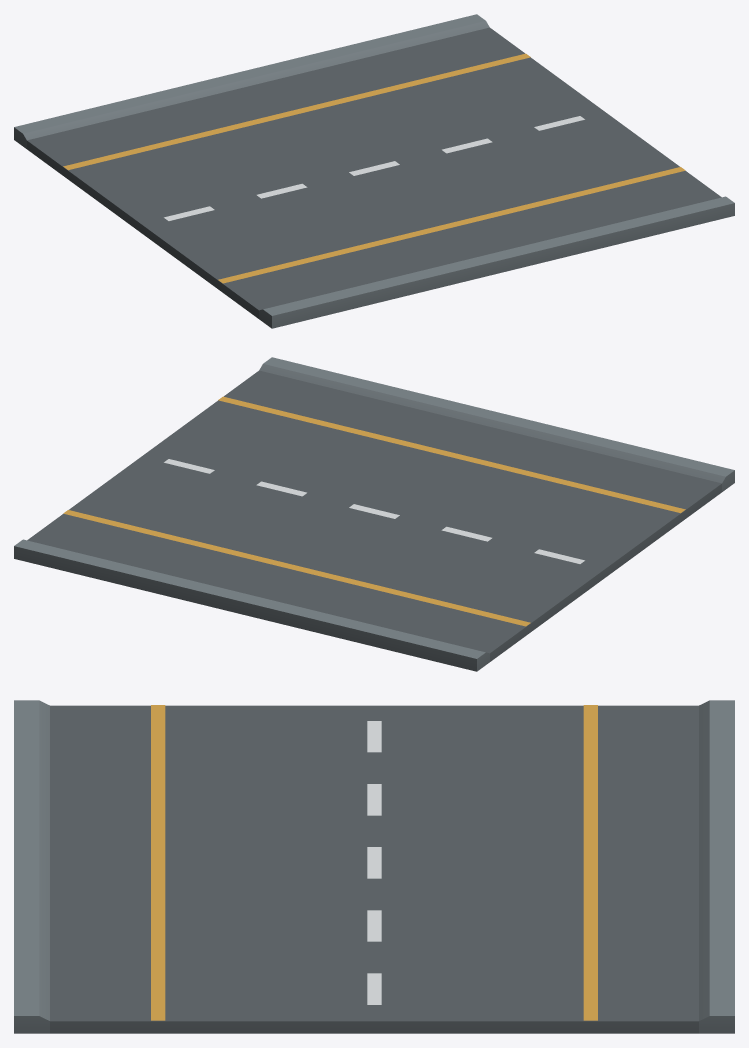
Rendered from CarreteraLateral.glb.
3 views of the same model, one above another, from view 1: azimuth 30°, elevation 25°; view 2: azimuth 150°, elevation 25°; view 3: azimuth 270°, elevation 25° (orthographic). The views are drawn at different scales.
Visible parts, largest first — view 1: road_straight_Cube.002; view 2: road_straight_Cube.002; view 3: road_straight_Cube.002.
Boxes of the visible parts, x1=… form: road_straight_Cube.002: x1=14, y1=14, x2=734, y2=328; road_straight_Cube.002: x1=14, y1=357, x2=734, y2=671; road_straight_Cube.002: x1=14, y1=700, x2=734, y2=1033.
Size of the model in its own units: 3.79 by 0.1 by 3.66.
Materials: 1 (1 with a texture image).
